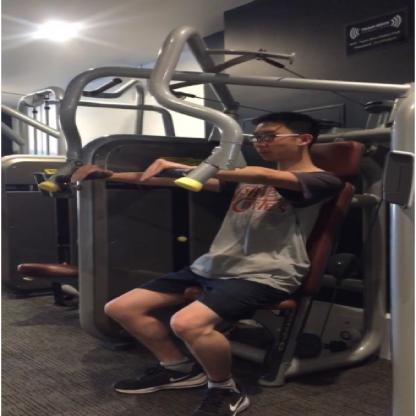Chest Press machine: (58, 29, 413, 413)
